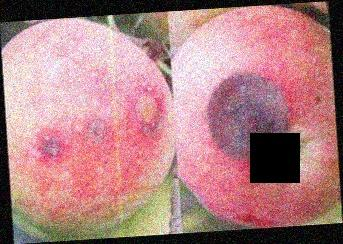rotten apple: (8, 18, 172, 235), (174, 8, 335, 226)
